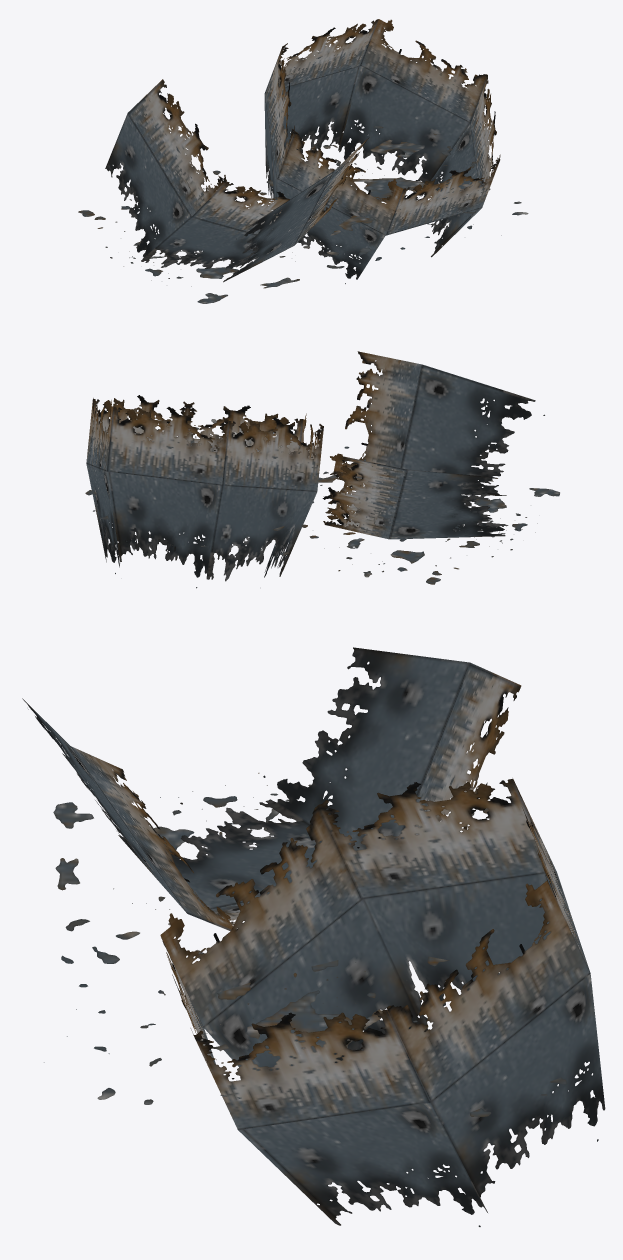
Rendered from crashengine_dam.glb.
3 views of the same model, one above another, from view 1: azimuth 30°, elevation 25°; view 2: azimuth 150°, elevation 25°; view 3: azimuth 270°, elevation 25° (orthographic). The views are drawn at different scales.
Parts seen in each view (by area): view 1: Crash Engine; view 2: Crash Engine; view 3: Crash Engine.
Boxes of the visible parts, box(x1,y1,x2,y2) form: Crash Engine: box(78, 19, 528, 303); Crash Engine: box(85, 351, 559, 588); Crash Engine: box(22, 647, 605, 1226).
Size of the model in its own units: 24.89 by 12.11 by 16.6.
Materials: 2 (2 with a texture image).
